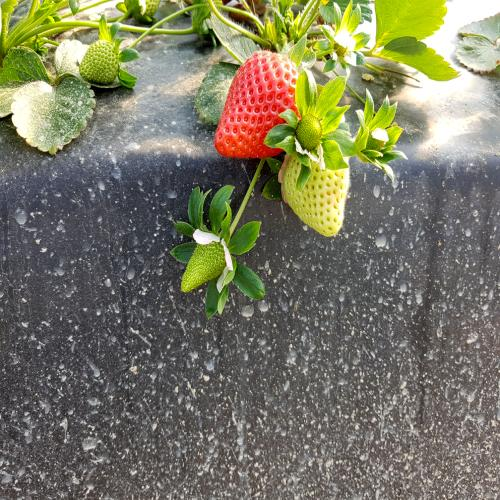ripe: (214, 31, 305, 186)
